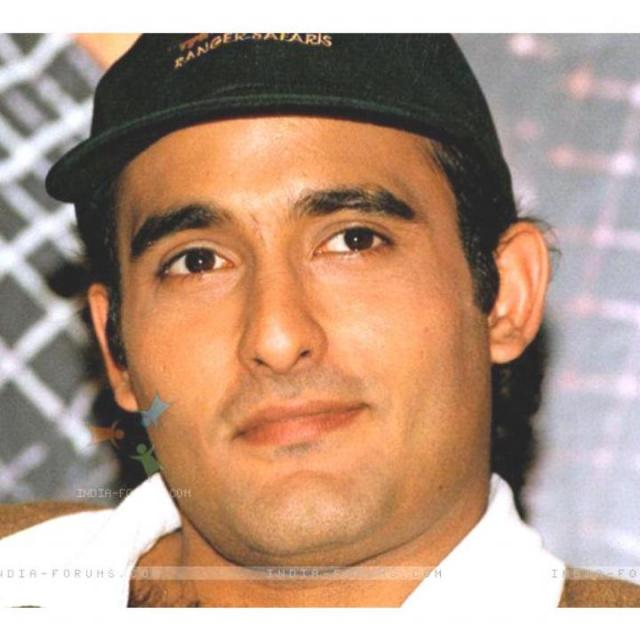live: (74, 135, 564, 578)
